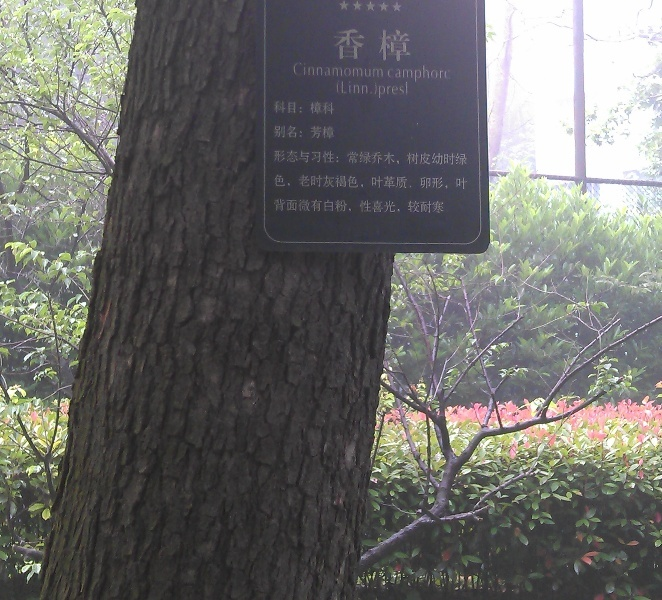text: (337, 28, 352, 61), (353, 28, 368, 61), (369, 28, 384, 61), (385, 28, 400, 61), (401, 28, 412, 61), (337, 80, 352, 101), (353, 80, 368, 101), (369, 80, 384, 101), (385, 80, 400, 101), (305, 61, 320, 81), (321, 61, 336, 81), (337, 61, 352, 81), (353, 61, 368, 81), (369, 61, 384, 81), (401, 64, 416, 84), (417, 64, 432, 84), (433, 64, 448, 84), (289, 174, 304, 191), (305, 174, 320, 191), (321, 174, 336, 191), (337, 174, 352, 191), (353, 174, 368, 191), (369, 174, 384, 191), (385, 174, 400, 191), (401, 174, 416, 191), (417, 174, 432, 191), (433, 174, 448, 191), (449, 174, 464, 191), (289, 101, 304, 117), (305, 101, 320, 117), (289, 125, 304, 141), (305, 125, 320, 141), (321, 125, 336, 141), (289, 150, 304, 166), (305, 150, 320, 166), (321, 150, 336, 166), (337, 150, 352, 166), (353, 150, 368, 166), (369, 150, 384, 166), (385, 150, 400, 166), (401, 150, 416, 166), (417, 150, 432, 166), (433, 150, 448, 166), (449, 150, 464, 166), (289, 199, 304, 215), (305, 199, 320, 215), (321, 199, 336, 215), (337, 199, 352, 215), (353, 199, 368, 215), (369, 199, 384, 215), (385, 199, 400, 215), (401, 199, 416, 215), (417, 199, 432, 215), (388, 64, 400, 84), (274, 101, 288, 117), (274, 150, 288, 166), (274, 199, 288, 215), (275, 174, 288, 191), (293, 61, 304, 81), (321, 101, 334, 117), (275, 125, 288, 141), (433, 199, 445, 215), (401, 80, 409, 101), (333, 28, 336, 61), (465, 174, 470, 191), (449, 64, 452, 84), (465, 150, 468, 166), (385, 61, 386, 81)
